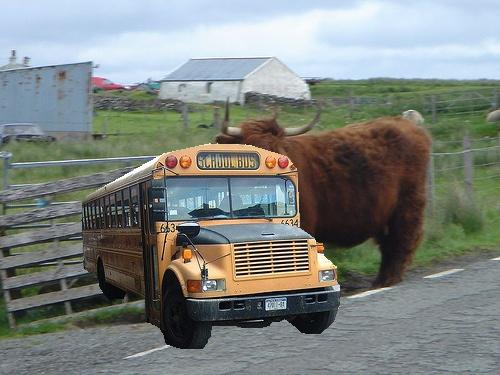tampered: (82, 144, 340, 349)
